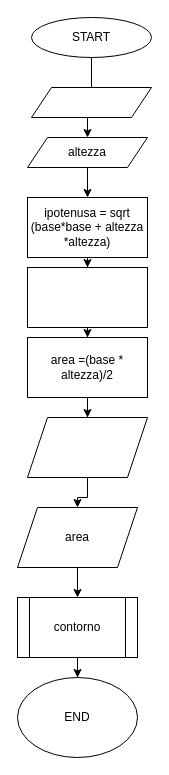
This 169x775 diagram has some shape labels left out. The shapes that lost their labels are listed below. From the top down, each one's box as (x1, y1, x2, y2) in pixels, then its label:
(30, 86, 152, 118): base
(26, 266, 148, 328): perimetro = base + altezza + ipotenusa
(26, 416, 148, 478): perimetro
